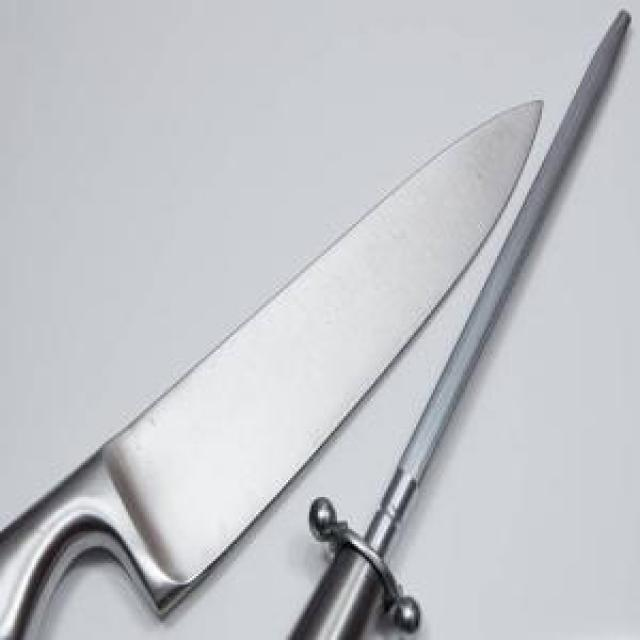knife: (0, 98, 547, 640), (288, 6, 636, 638)
